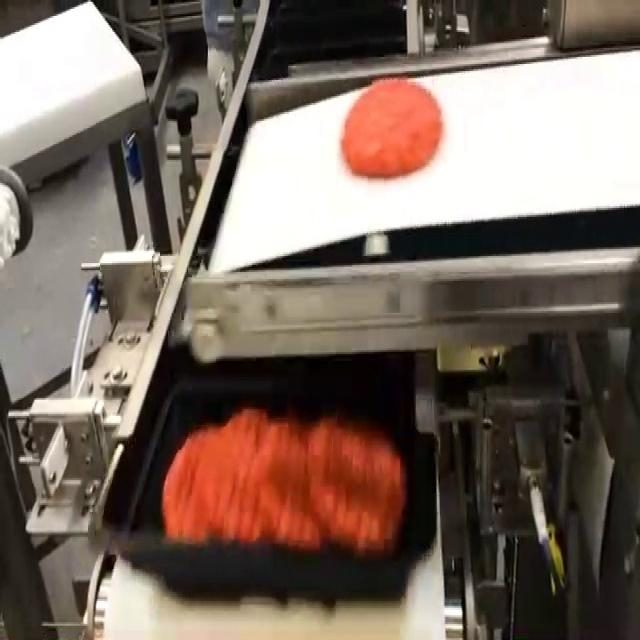4-hamburguer: (163, 407, 406, 551)
